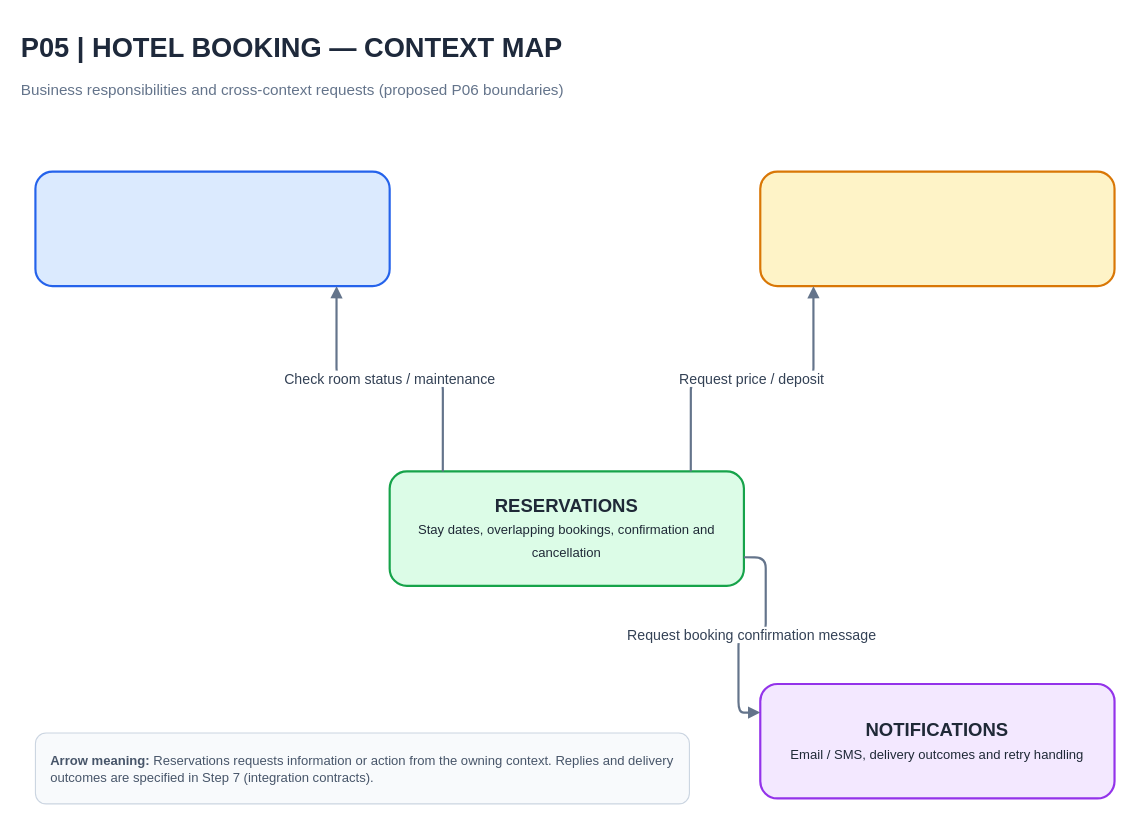
The diagram is 1134 pixels wide and 823 high, and some of its shapes have lost their labels. The shapes that lost their labels are listed below. From the top down, each one's centre as x and y in pixels, then its label:
point 212,228: ROOMS Room identities, categories, maintenance and operational status
point 937,228: PAYMENTS Nightly rates, deposits, payment status and refunds
